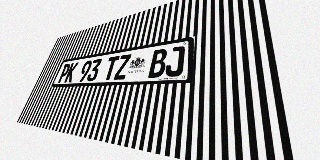3: (86, 58, 102, 81)
9: (77, 60, 93, 82)
B: (148, 48, 168, 78)
J: (164, 45, 185, 77)
K: (64, 62, 79, 83)
P: (57, 63, 71, 83)
T: (102, 56, 120, 80)
Z: (113, 54, 131, 80)
